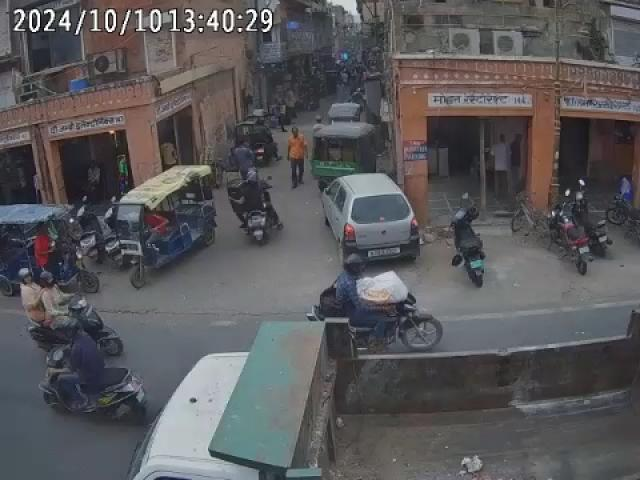auto: (112, 165, 221, 289), (0, 200, 101, 295)
car: (320, 172, 420, 266)
helmet: (55, 316, 89, 345), (14, 267, 36, 290), (36, 270, 58, 292), (343, 260, 364, 276)
motorbike: (546, 202, 592, 274)
motorbike-rider: (308, 256, 447, 352)
person: (288, 125, 309, 188)
scooty: (444, 204, 486, 286), (572, 175, 613, 258)
scooty-rider: (39, 316, 150, 422), (15, 266, 124, 354), (230, 167, 288, 246)
truck: (132, 312, 640, 479)
